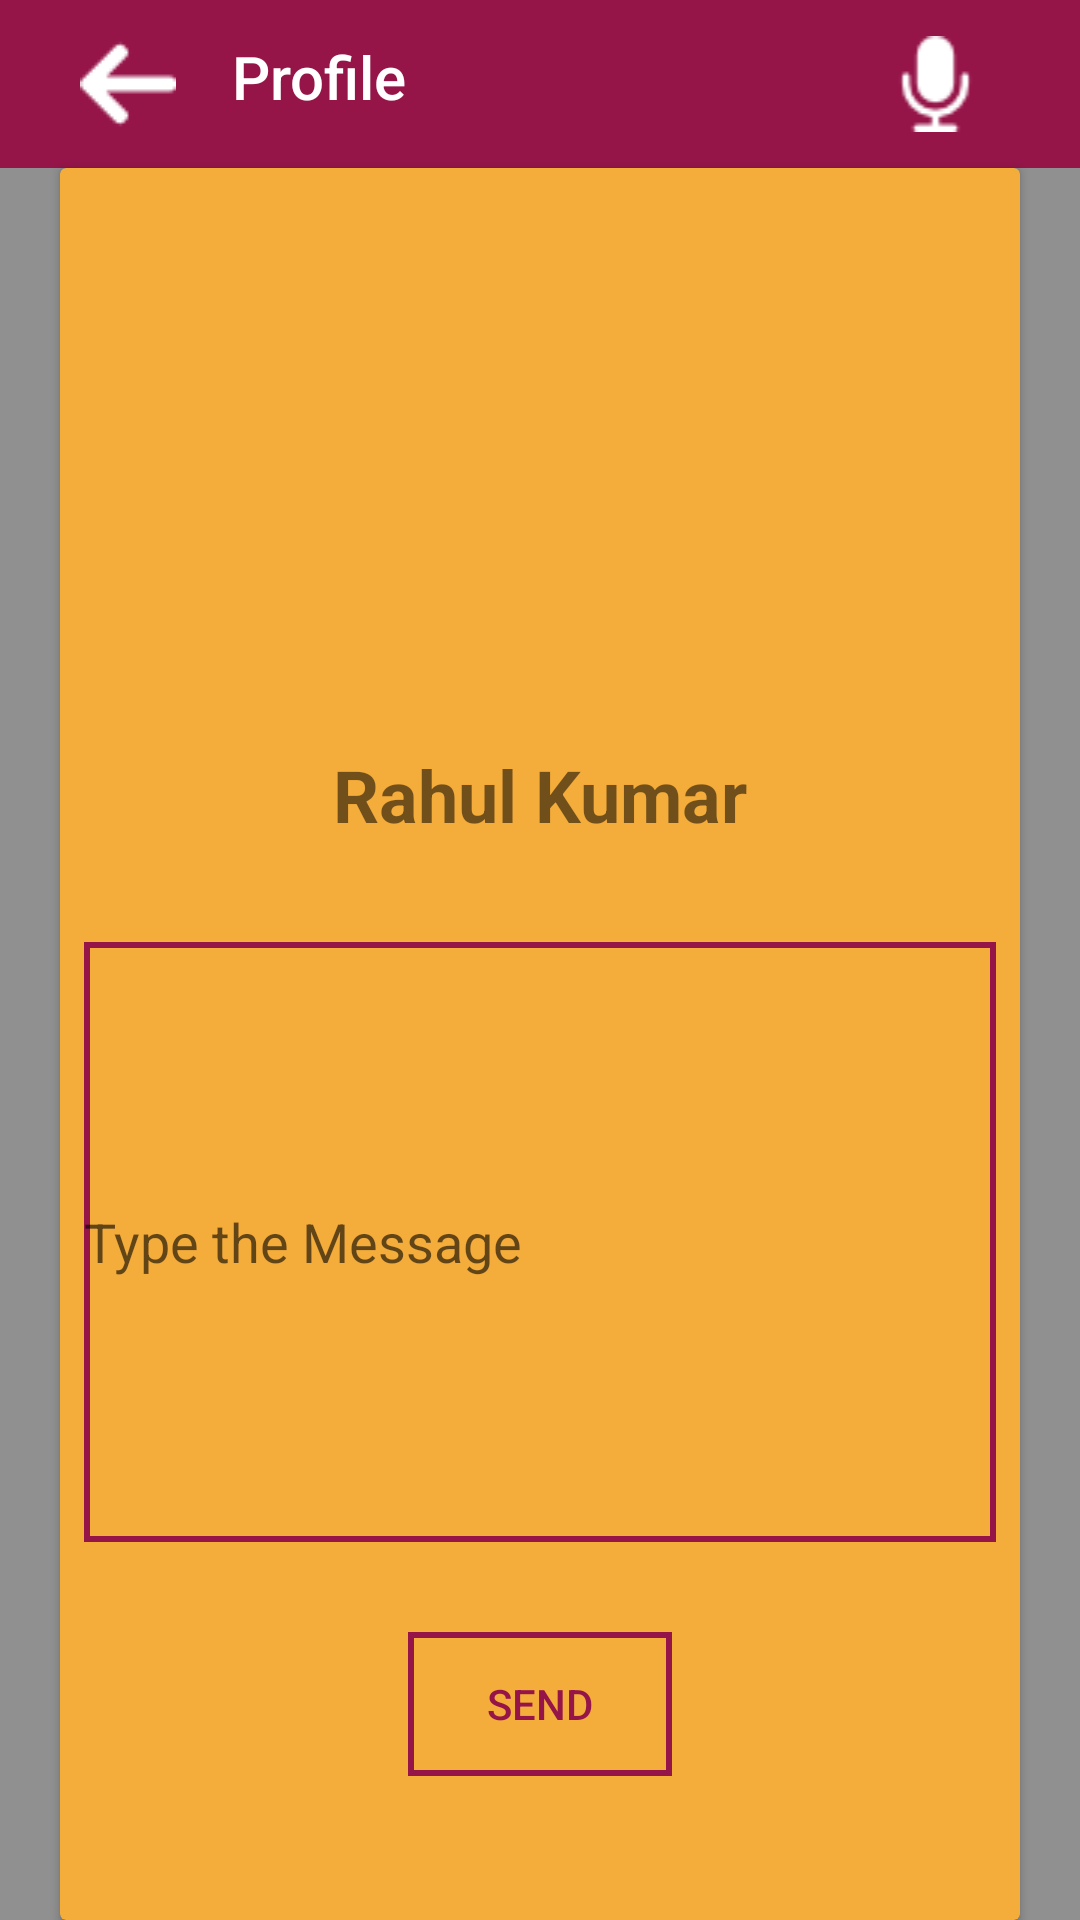

Where icons sit on this 1080px×1920px app screen, as [x1, y1, x2, y2]:
left: [80, 42, 176, 126]
